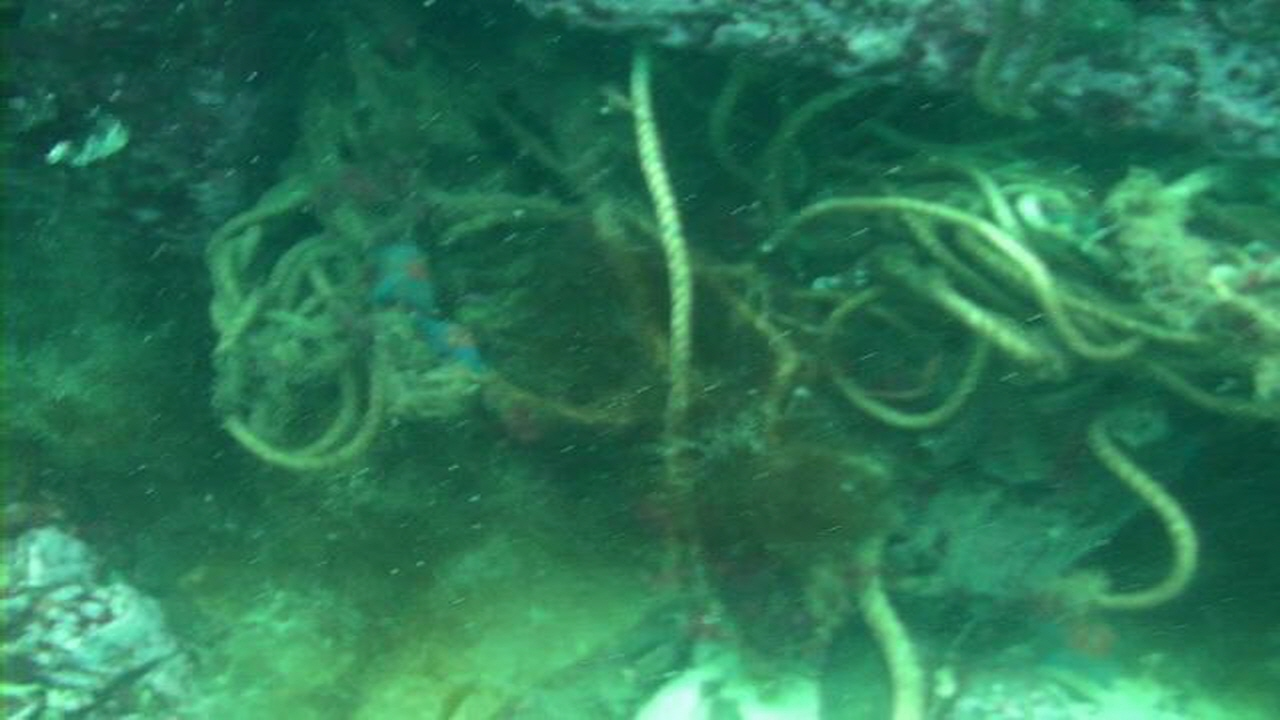bundle of ropes: (202, 45, 1280, 720)
